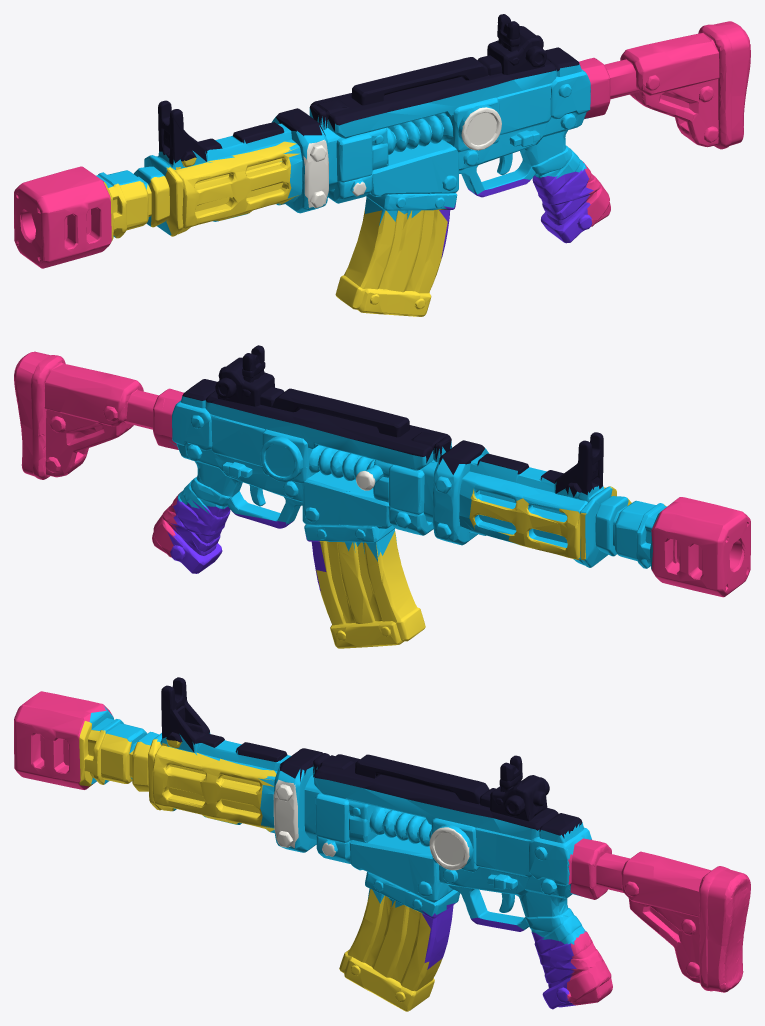
Rendered from weapon_assault_rifle_comic.glb.
3 views of the same model, one above another, from view 1: azimuth 30°, elevation 25°; view 2: azimuth 150°, elevation 25°; view 3: azimuth 330°, elevation 25° (orthographic).
Parts seen in each view (by area): view 1: weapon_assault_rifle_comic; view 2: weapon_assault_rifle_comic; view 3: weapon_assault_rifle_comic.
Part boxes in pixels (x1,y1,x2,y2): weapon_assault_rifle_comic: (14, 14, 750, 316); weapon_assault_rifle_comic: (14, 345, 750, 648); weapon_assault_rifle_comic: (14, 677, 750, 1011).
Bounding box in the file's own units: 1.9 × 0.6818 × 0.2219.
